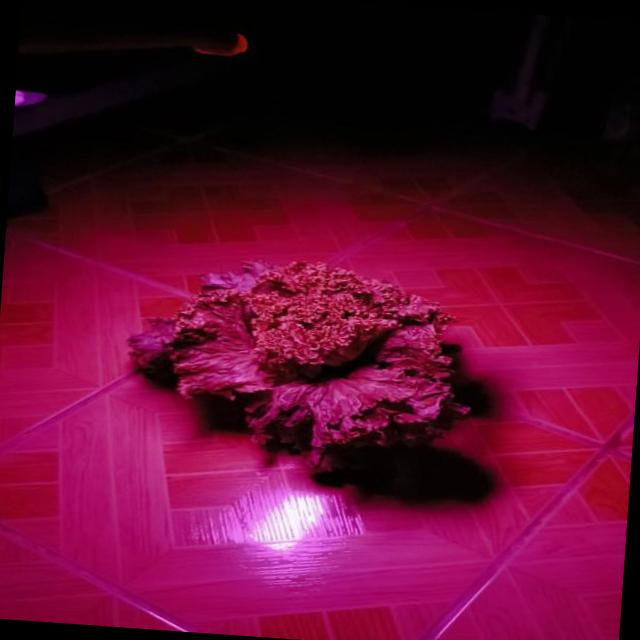Lettuce-Ready-to-Harvest: (131, 261, 465, 462)
